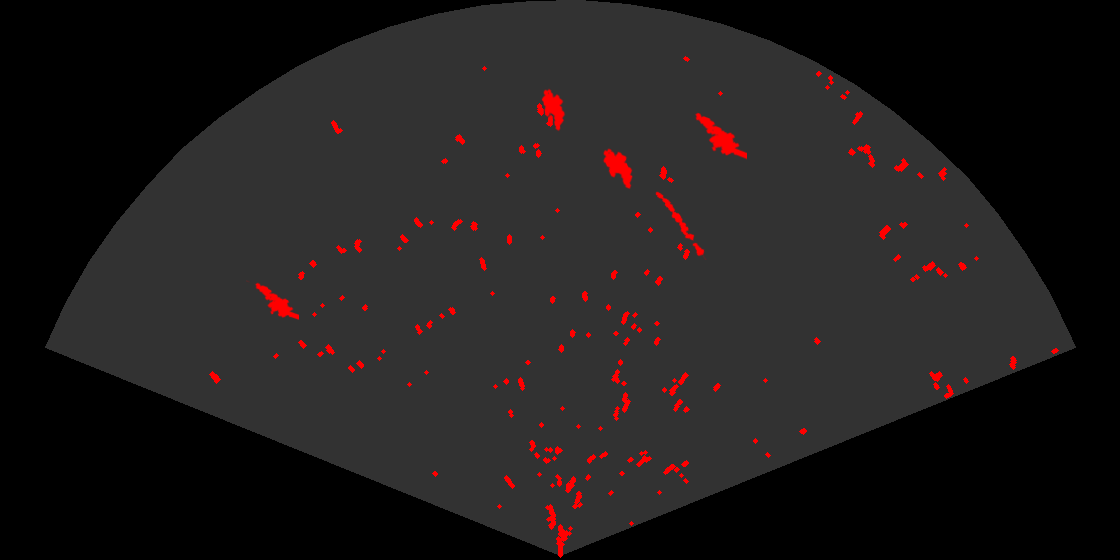AUV: (601, 147, 634, 191), (540, 87, 567, 133)
chain: (654, 190, 708, 260)
frogman: (693, 111, 747, 161), (246, 280, 299, 321)
